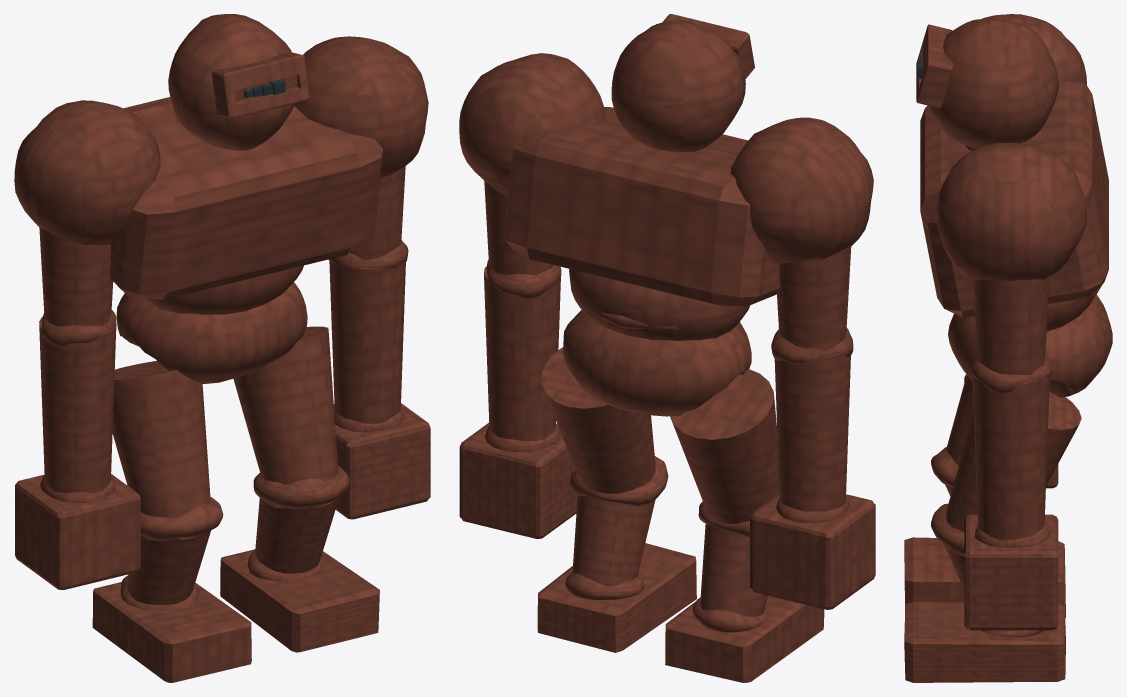
The model's file is golem.fbx.
3 renders of one model, left to right at view 1: azimuth 30°, elevation 25°; view 2: azimuth 150°, elevation 25°; view 3: azimuth 270°, elevation 25°, orthographic.
Parts seen in each view (by area): view 1: golem_C_chest_girdle, golem_R_shoulder, golem_R_thigh, golem_L_shoulder, golem_L_thigh, golem_C_pelvis, golem_R_fist, golem_L_forearm, golem_R_forearm, golem_L_foot, golem_R_foot, golem_C_head (+15 smaller); view 2: golem_C_chest_girdle, golem_R_shoulder, golem_C_head, golem_C_pelvis, golem_L_shoulder, golem_R_thigh, golem_R_fist, golem_R_forearm, golem_L_forearm, golem_L_fist, golem_L_foot, golem_L_thigh (+14 smaller); view 3: golem_L_shoulder, golem_C_chest_girdle, golem_C_head, golem_L_forearm, golem_L_foot, golem_L_fist, golem_L_upperarm, golem_C_pelvis, golem_L_thigh, golem_R_foot, golem_C_brow, golem_R_shoulder (+8 smaller).
Part boxes in pixels (x1,y1,x2,y2): golem_C_chest_girdle: [110, 97, 382, 299]; golem_R_shoulder: [14, 100, 160, 245]; golem_R_thigh: [112, 360, 210, 517]; golem_L_shoulder: [294, 36, 428, 178]; golem_L_thigh: [233, 326, 338, 484]; golem_C_pelvis: [116, 282, 307, 383]; golem_R_fist: [15, 474, 140, 589]; golem_L_forearm: [329, 261, 405, 424]; golem_R_forearm: [39, 316, 116, 492]; golem_L_foot: [220, 549, 379, 652]; golem_R_foot: [92, 582, 251, 682]; golem_C_head: [168, 14, 295, 150]; golem_C_chest_girdle: [503, 107, 779, 306]; golem_R_shoulder: [730, 117, 873, 263]; golem_C_head: [611, 20, 745, 151]; golem_C_pelvis: [563, 309, 751, 416]; golem_L_shoulder: [459, 53, 604, 195]; golem_R_thigh: [670, 369, 779, 523]; golem_R_fist: [750, 493, 875, 609]; golem_R_forearm: [774, 352, 850, 511]; golem_L_forearm: [484, 266, 560, 441]; golem_L_fist: [459, 422, 577, 538]; golem_L_foot: [537, 543, 696, 652]; golem_L_thigh: [541, 347, 655, 493]; golem_L_shoulder: [936, 142, 1086, 280]; golem_C_chest_girdle: [920, 80, 1108, 317]; golem_C_head: [928, 19, 1058, 148]; golem_L_forearm: [972, 375, 1049, 540]; golem_L_foot: [904, 602, 1065, 682]; golem_L_fist: [964, 514, 1058, 630]; golem_L_upperarm: [973, 276, 1049, 374]; golem_C_pelvis: [948, 294, 1112, 397]; golem_L_thigh: [946, 391, 1081, 531]; golem_R_foot: [904, 537, 1065, 617]; golem_C_brow: [916, 24, 953, 108]; golem_R_shoulder: [982, 14, 1086, 84].
Bounding box in the file's own units: 2.73 × 4.02 × 1.24.
Materials: 10 (6 with a texture image).
